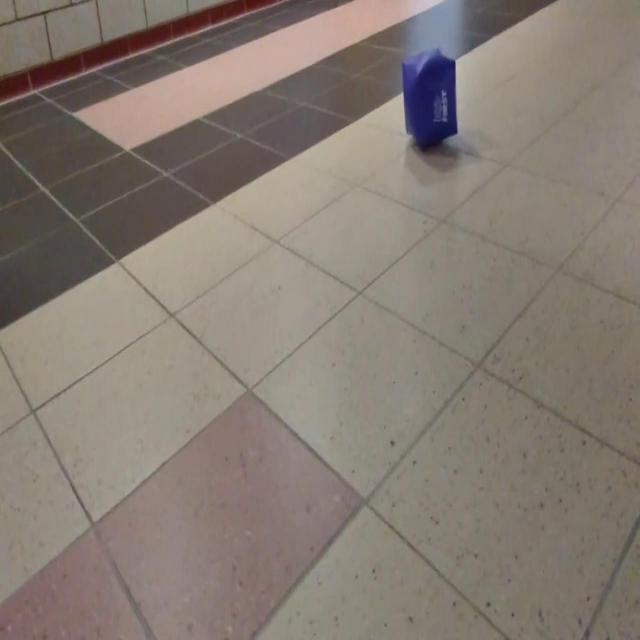frc_cube: (400, 47, 458, 150)
